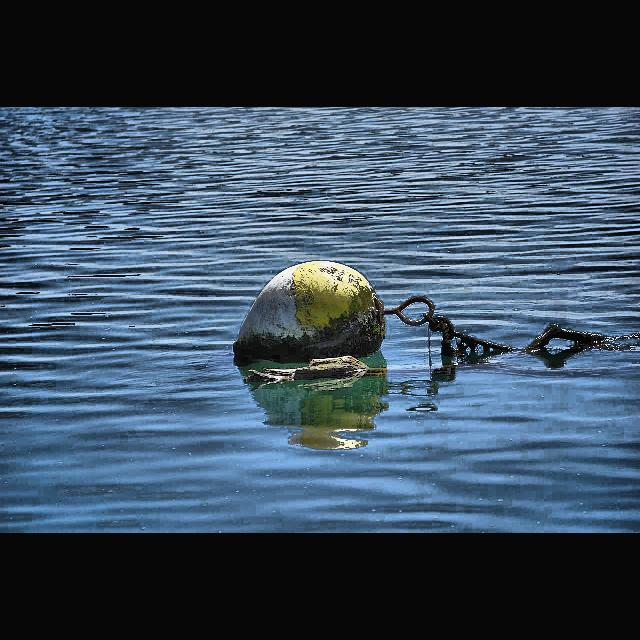buoy: (227, 258, 438, 376)
